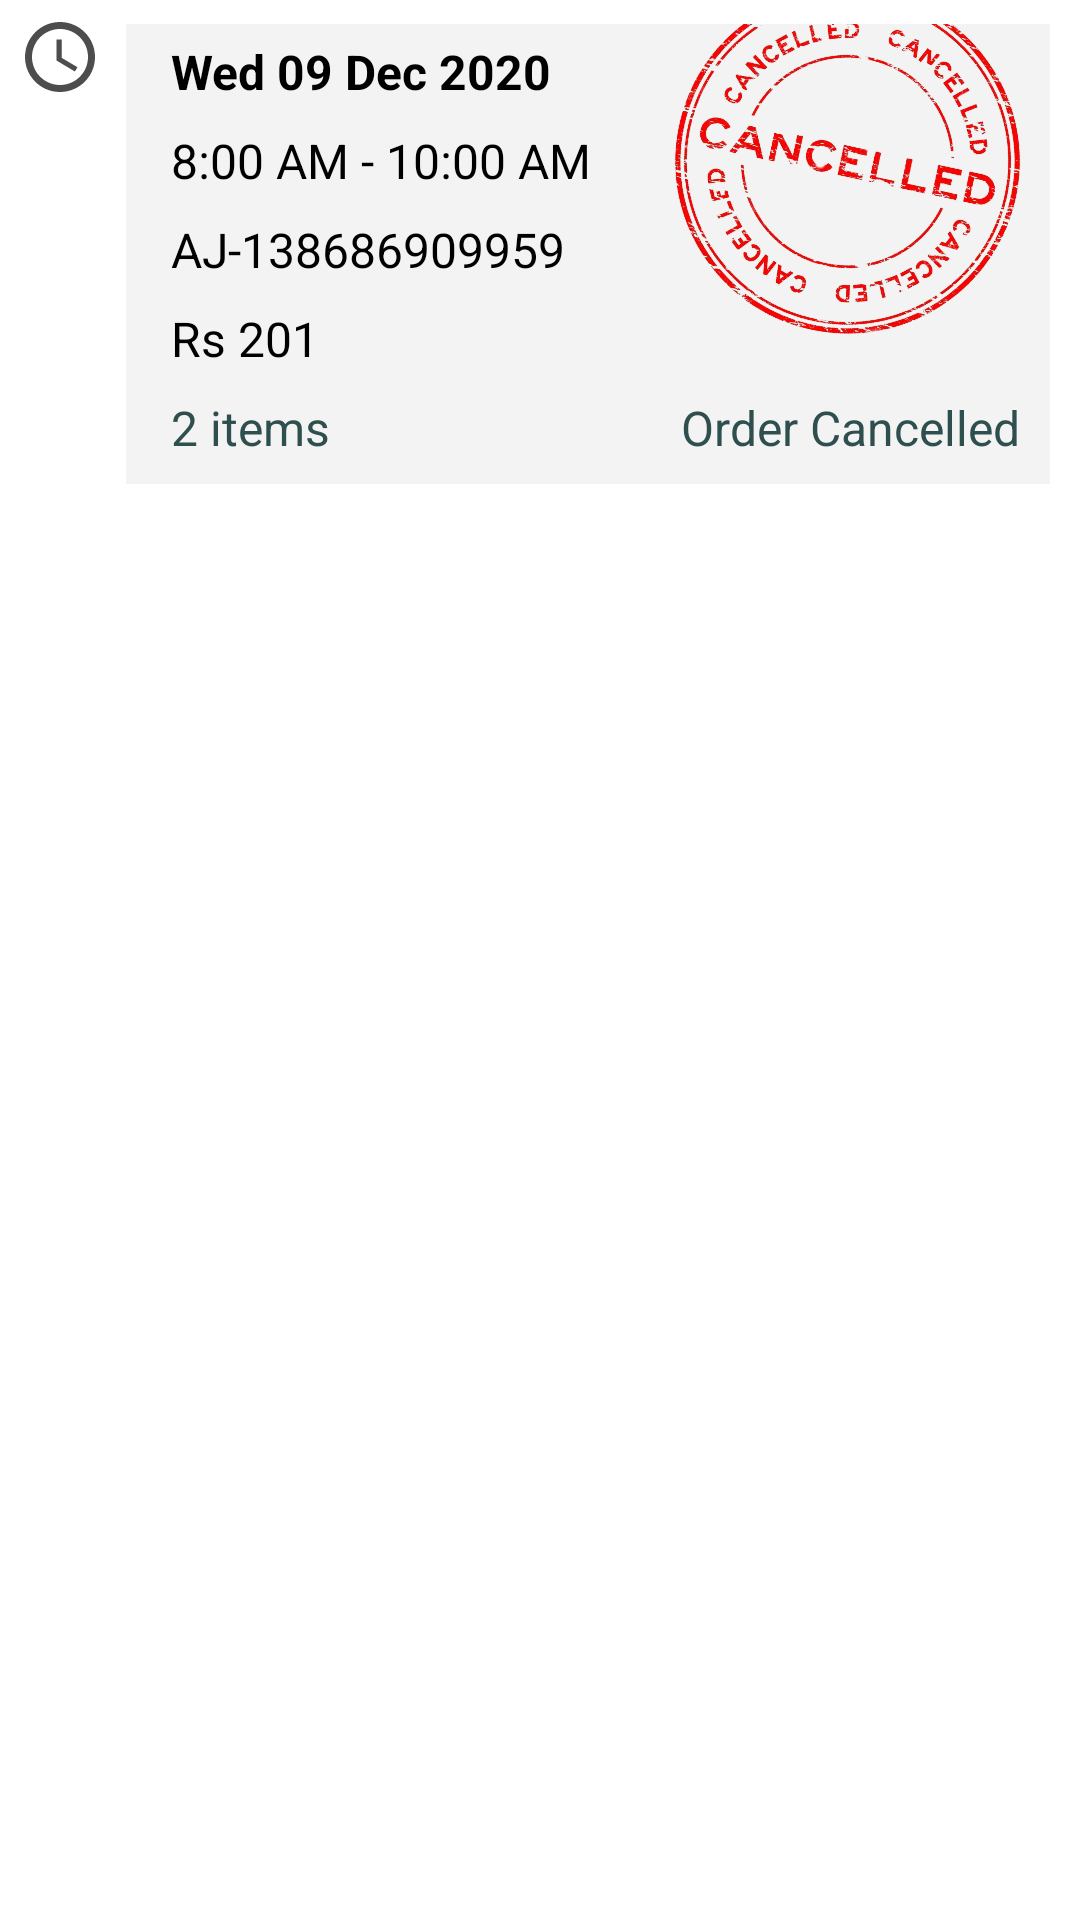

Icons on this 1080px x 1920px Android screen, each with the point to tap as point (x, y):
access time: point (60, 57)
